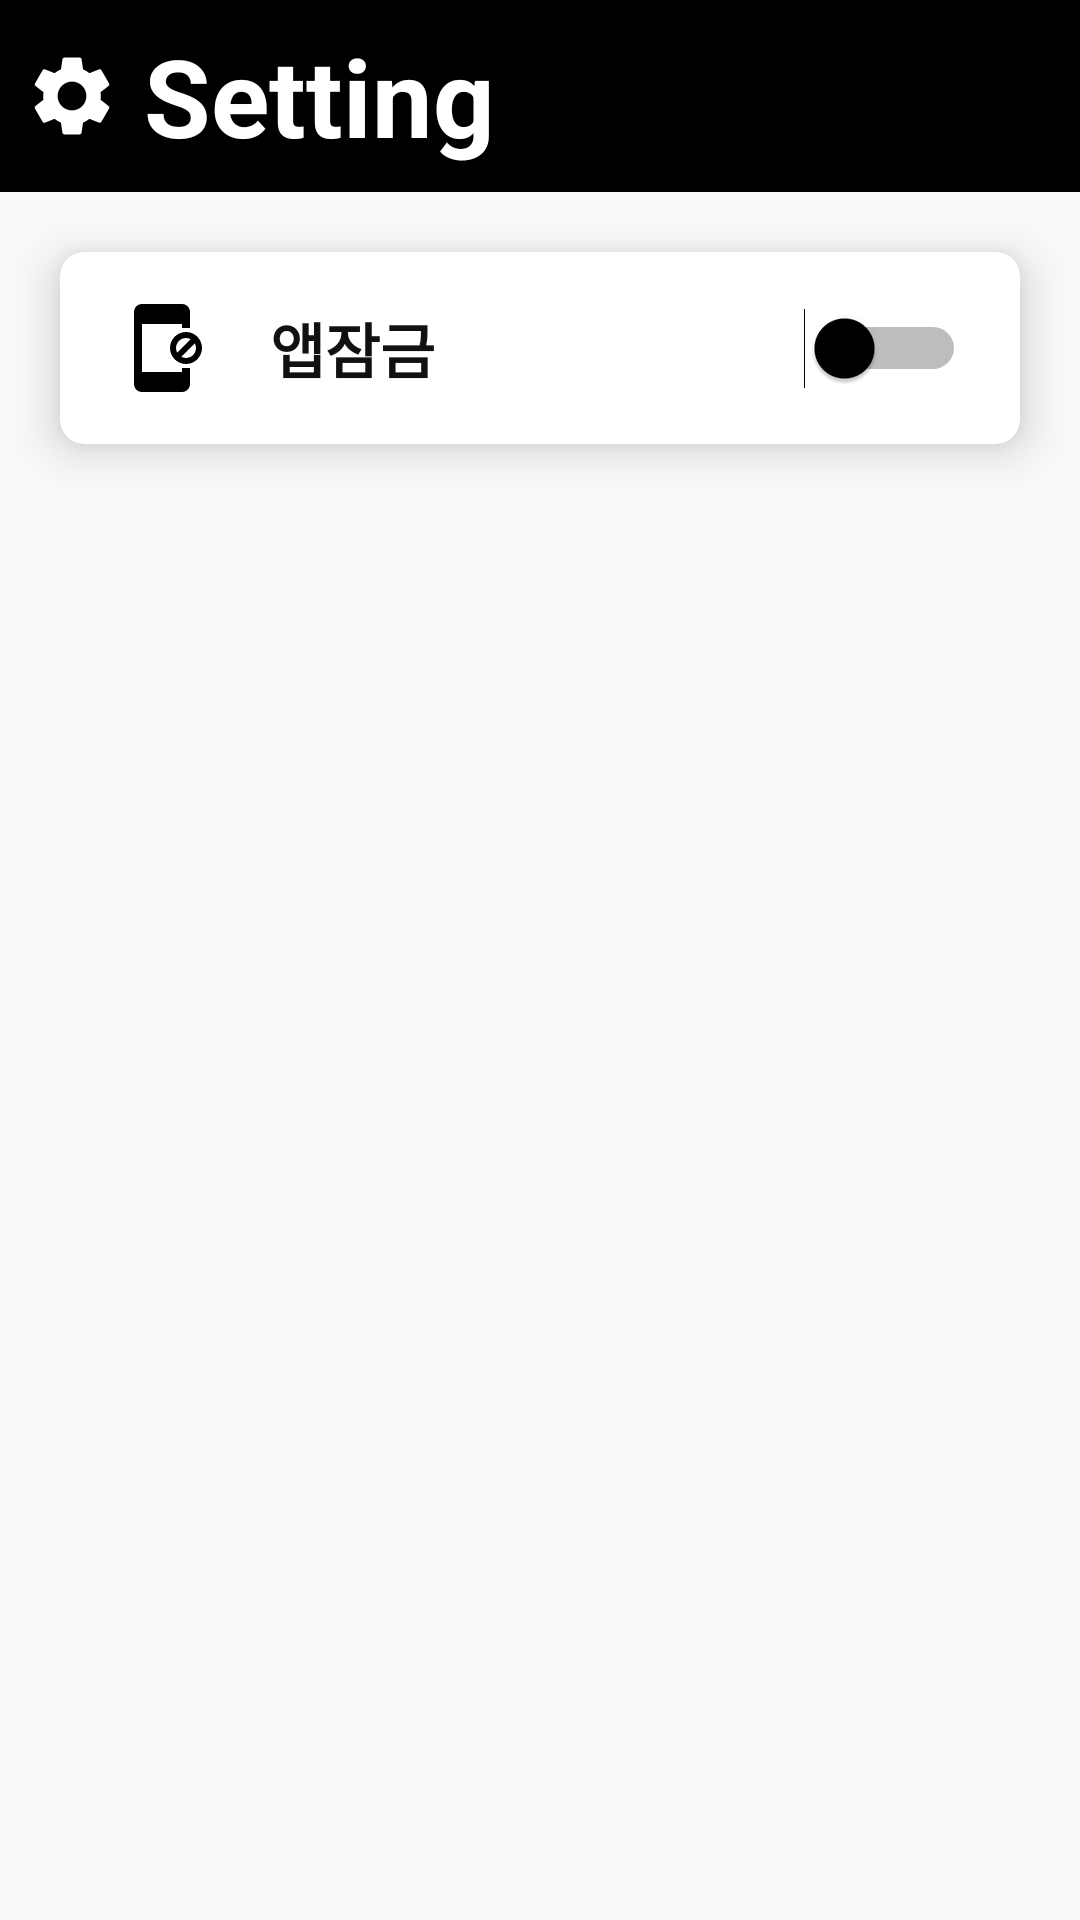

Screen size 1080 × 1920. Icon name, then its center in pixels as point (x, y):
blocking: point (168, 348)
